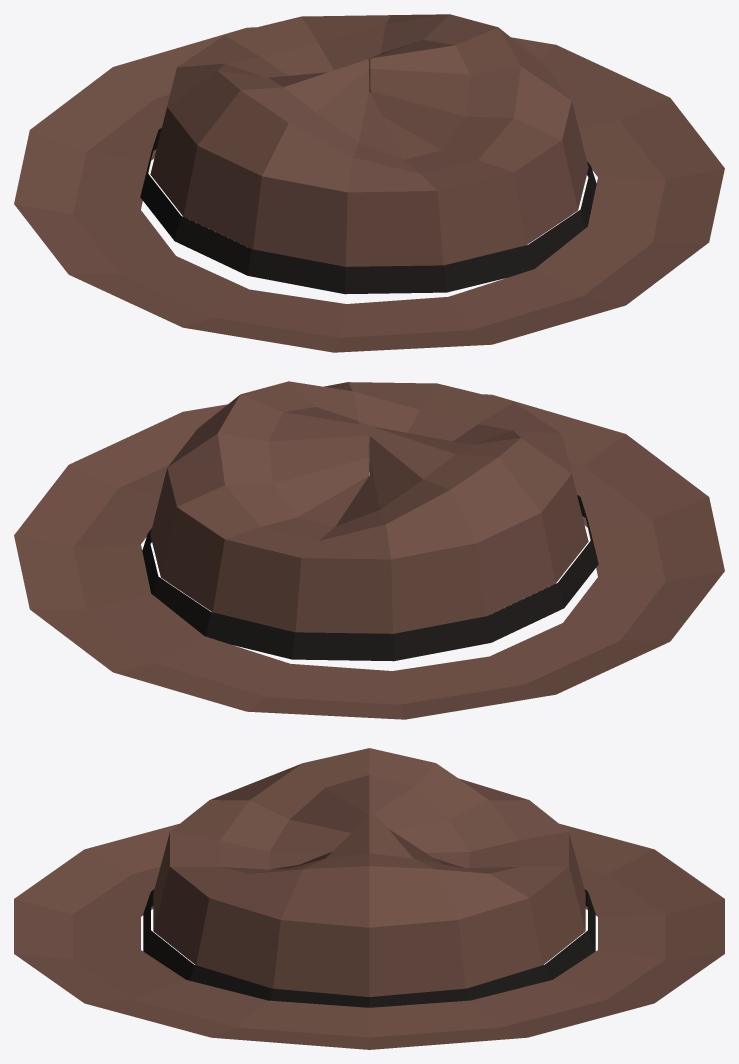
File: hat_06_fedora_brown.glb
3 views of the same model, one above another, from view 1: azimuth 30°, elevation 25°; view 2: azimuth 150°, elevation 25°; view 3: azimuth 270°, elevation 25° (orthographic). The views are drawn at different scales.
Parts seen in each view (by area): view 1: Hat06_Crown, Hat06_Brim, Hat06_Ribbon; view 2: Hat06_Crown, Hat06_Brim, Hat06_Ribbon; view 3: Hat06_Crown, Hat06_Brim, Hat06_Ribbon.
Boxes of the visible parts, x1,y1,x2,y2 form: Hat06_Crown: (150,14,588,266); Hat06_Brim: (14,27,724,352); Hat06_Ribbon: (140,89,596,294); Hat06_Crown: (150,381,588,633); Hat06_Brim: (14,394,724,719); Hat06_Ribbon: (142,495,598,661); Hat06_Crown: (153,748,585,996); Hat06_Brim: (14,823,724,1049); Hat06_Ribbon: (143,889,595,1007).
Size of the model in its own units: 0.84 by 0.205 by 0.9172.
